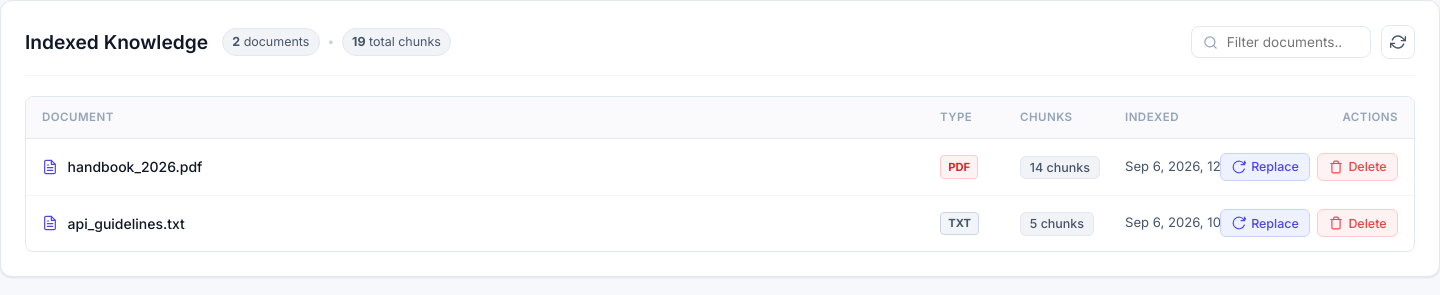
Scenario: Document Management CRUD Component & Service Tests › 4. DocumentList filters documents based on search input
Type "handbook" into the field with test id "filter-docs-input".
click(1281, 42); type("handbook")  # box x1=1191 y1=26 x2=1371 y2=58
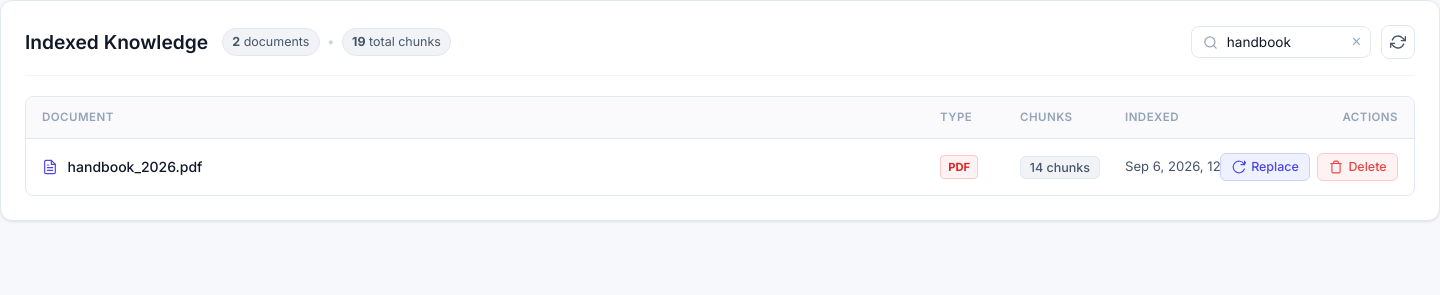
Expected: the text "handbook_2026.pdf" is shown, x1=68 y1=156 x2=202 y2=178
Result: the text "api_guidelines.txt" is gone
Note: Clear filter
Click the button named "Clear filter".
click(1356, 42)  # box x1=1352 y1=34 x2=1361 y2=50
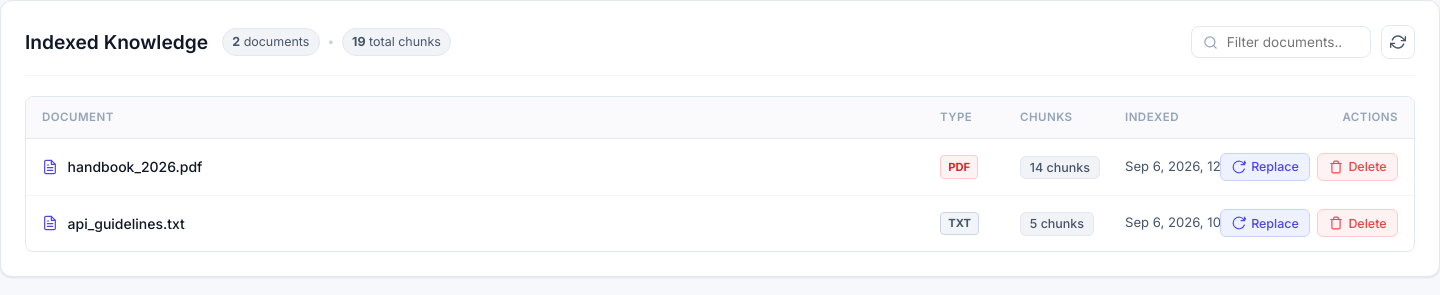
Result: the text "api_guidelines.txt" is shown at x1=68 y1=213 x2=185 y2=234
